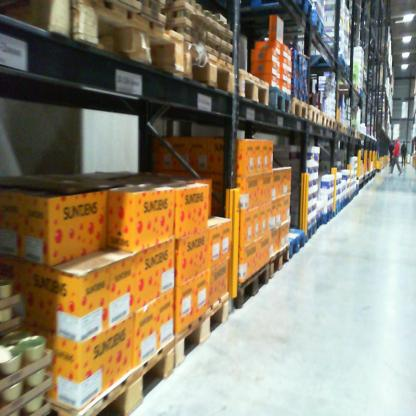pallet: (52, 328, 177, 415), (70, 2, 189, 65), (175, 289, 234, 378), (1, 2, 73, 58), (180, 44, 239, 94), (229, 260, 276, 319), (231, 55, 270, 111), (267, 239, 297, 285), (295, 52, 348, 73), (281, 229, 307, 264), (270, 76, 290, 115), (331, 81, 363, 102), (291, 91, 309, 121), (296, 222, 320, 243), (308, 99, 322, 127), (316, 106, 329, 132), (326, 114, 334, 133), (340, 118, 347, 139), (334, 118, 340, 133), (348, 121, 349, 139)
